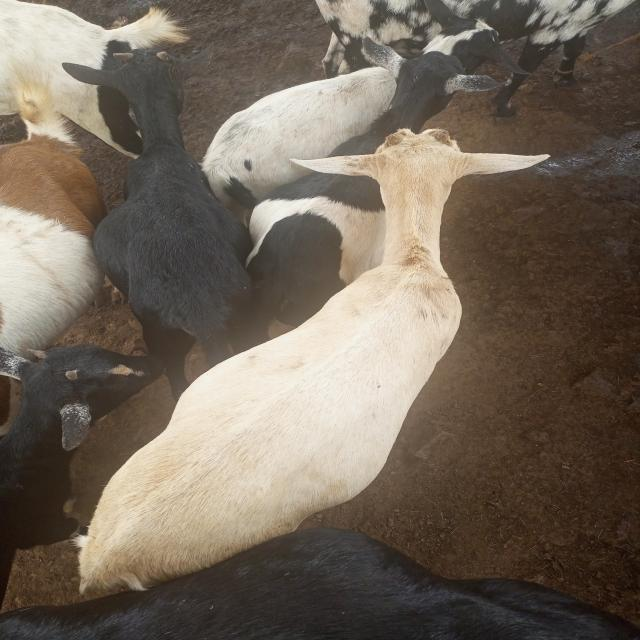goat: (50, 94, 566, 611)
